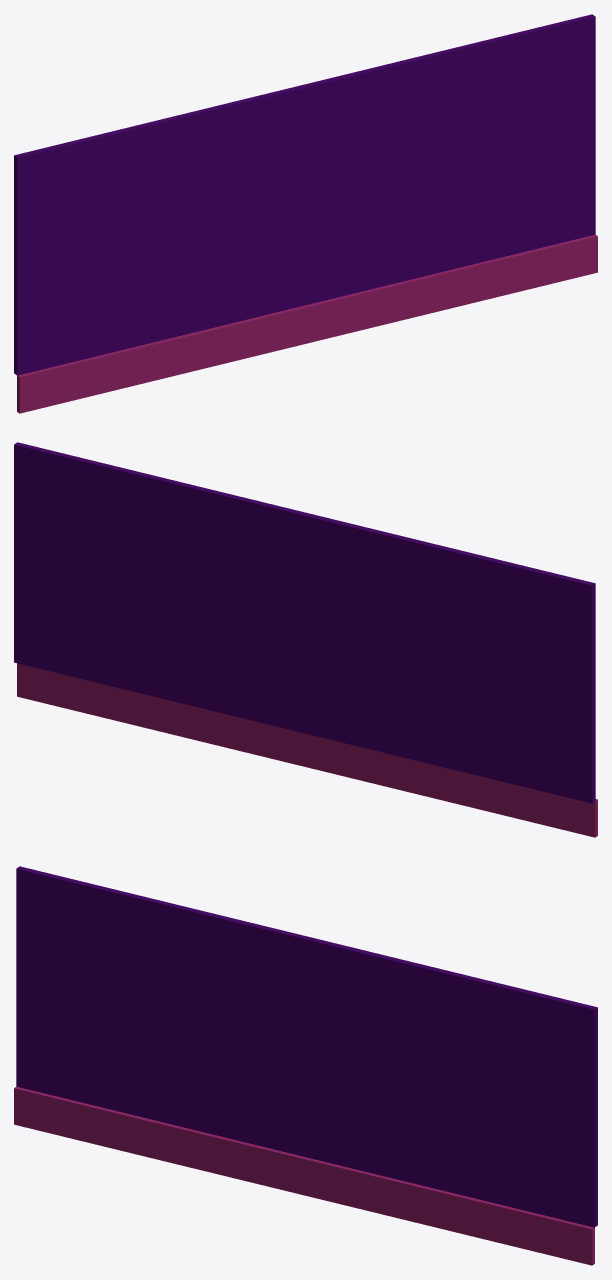
The model's file is wall.glb.
3 renders of one model, top to bottom at view 1: azimuth 30°, elevation 25°; view 2: azimuth 150°, elevation 25°; view 3: azimuth 330°, elevation 25°, orthographic.
Parts seen in each view (by area): view 1: Wall, Skirt; view 2: Wall, Skirt; view 3: Wall, Skirt.
Part boxes in pixels (bbox=[...]): Wall: bbox=[14, 14, 595, 375]; Skirt: bbox=[17, 234, 597, 413]; Wall: bbox=[14, 442, 595, 803]; Skirt: bbox=[17, 663, 597, 837]; Wall: bbox=[16, 866, 597, 1227]; Skirt: bbox=[14, 1086, 594, 1265].
Bounding box in the file's own units: 10 × 4.2 × 0.17.
